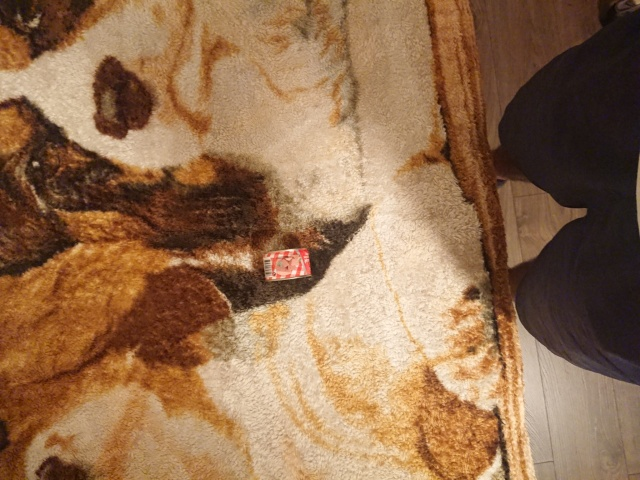Podravka Luncheon Meat 150g: (260, 245, 314, 285)
